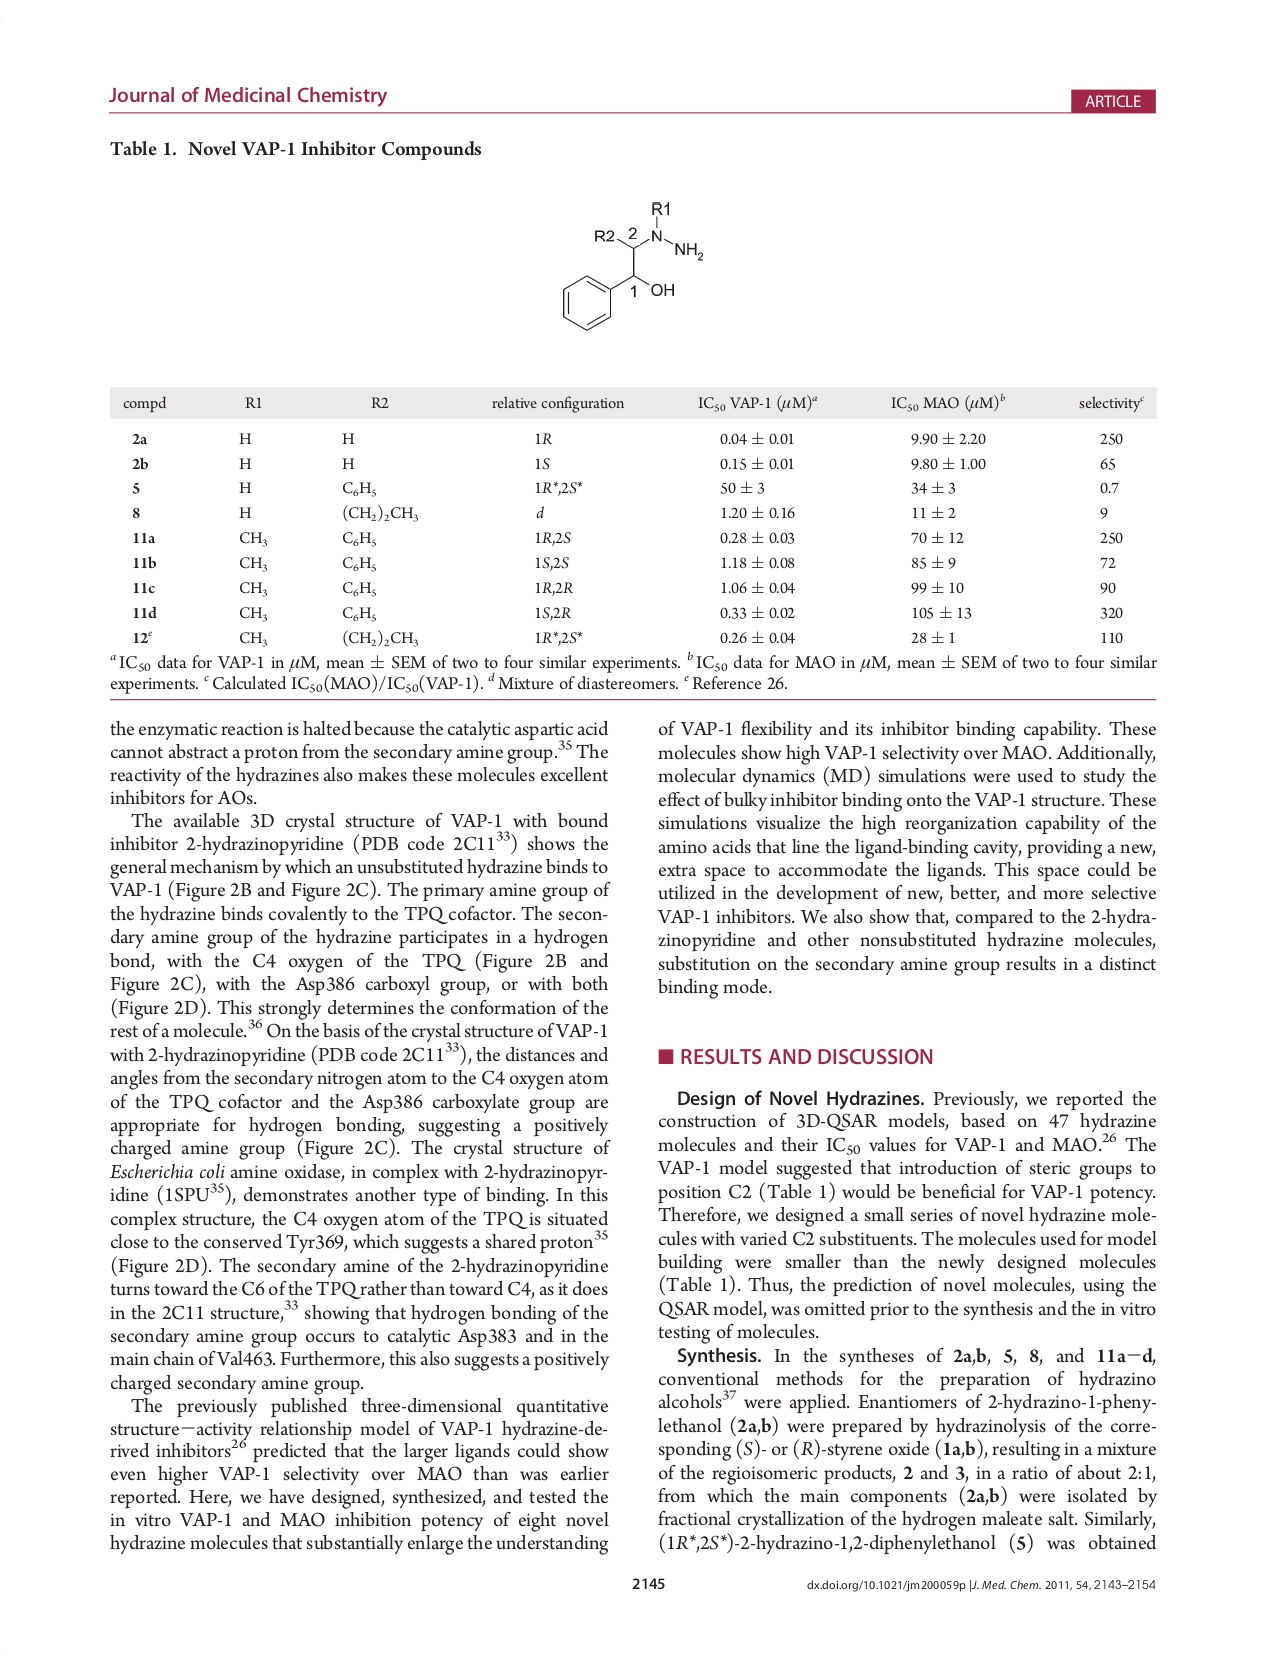exist_molecular: (561, 195, 706, 335)
